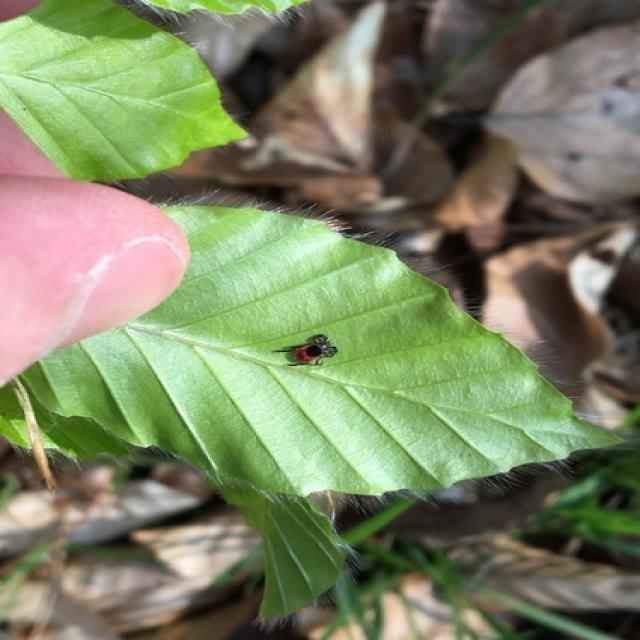Ixodes Ricinus-F: (270, 333, 338, 367)
